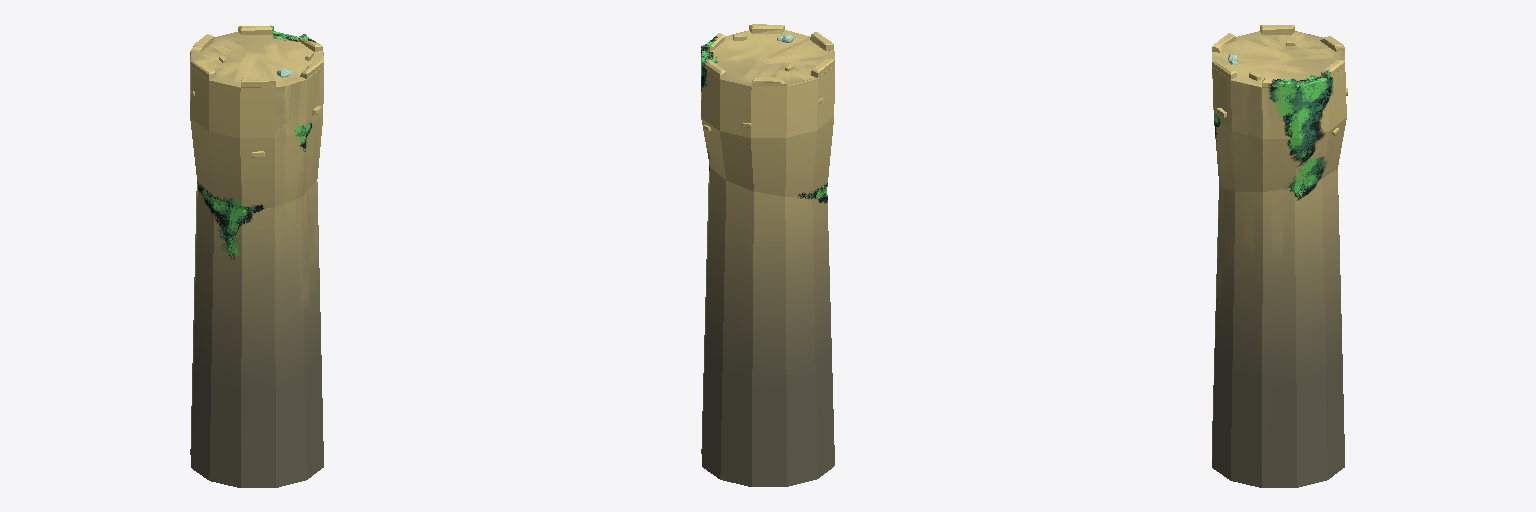
3 views of the same model, side by side, from view 1: azimuth 30°, elevation 25°; view 2: azimuth 150°, elevation 25°; view 3: azimuth 270°, elevation 25° (orthographic).
Visible parts, largest first — view 1: tower01; view 2: tower01; view 3: tower01.
Part boxes in pixels (left/top/right/bottom): tower01: left=190, top=25, right=323, bottom=487; tower01: left=701, top=24, right=834, bottom=486; tower01: left=1212, top=25, right=1347, bottom=487.
Size of the model in its own units: 51.96 by 173 by 52.59.
Materials: 1 (1 with a texture image).